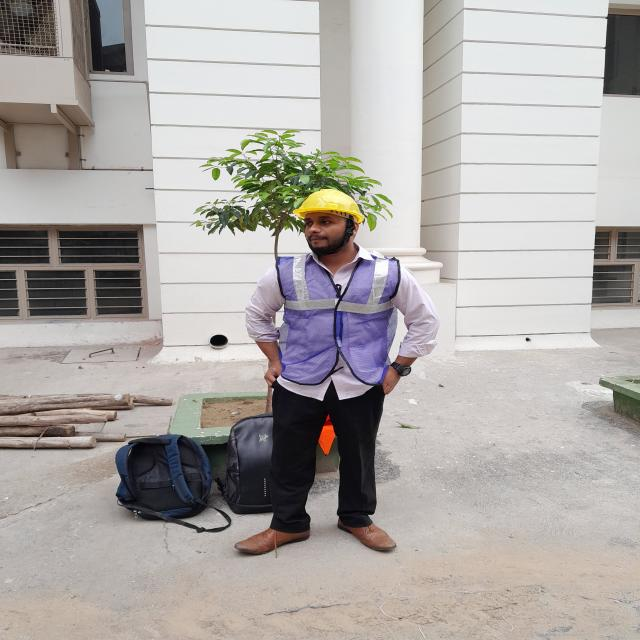safe: (259, 189, 400, 550)
